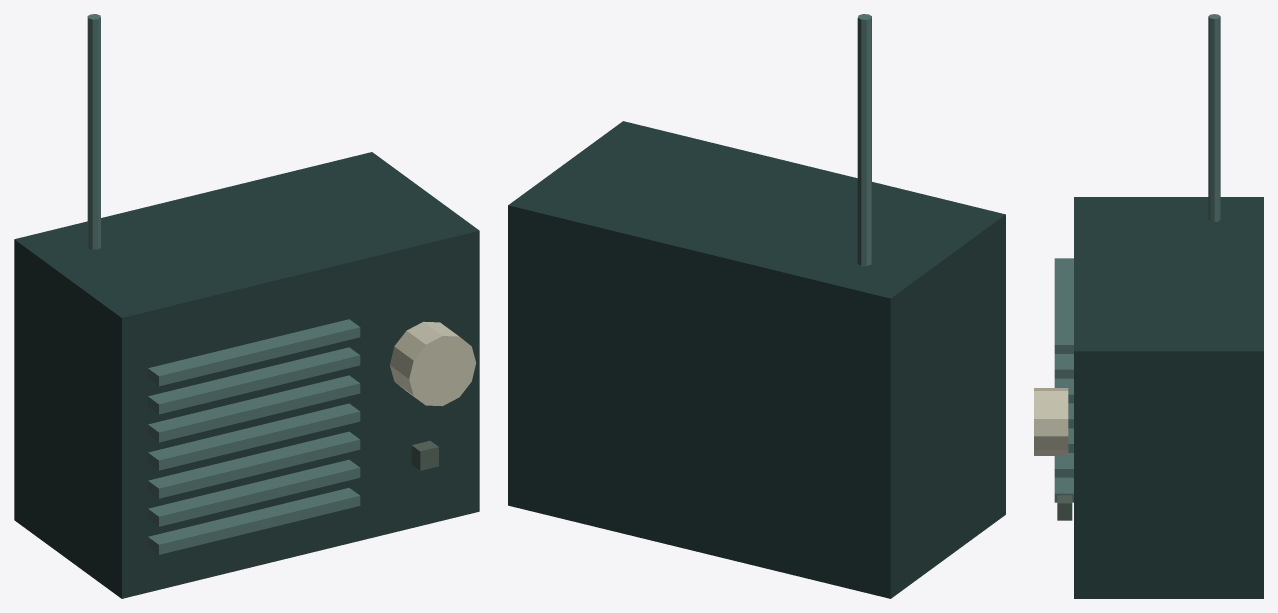
File: radio_speaker.glb
3 renders of one model, left to right at view 1: azimuth 30°, elevation 25°; view 2: azimuth 150°, elevation 25°; view 3: azimuth 270°, elevation 25°, orthographic. The views are drawn at different scales.
Parts seen in each view (by area): view 1: radio_case, radio_tuning_knob, speaker_grille_3, speaker_grille_0, speaker_grille_2, speaker_grille_4, speaker_grille_5, speaker_grille_6, speaker_grille_1, radio_antenna, radio_signal_led; view 2: radio_case, radio_antenna; view 3: radio_case, radio_antenna, radio_tuning_knob, speaker_grille_6, speaker_grille_5, speaker_grille_1, speaker_grille_0, radio_signal_led.
Boxes of the visible parts, bbox=[...] form: radio_case: bbox=[14, 152, 479, 598]; radio_tuning_knob: bbox=[390, 321, 476, 406]; speaker_grille_3: bbox=[148, 403, 360, 470]; speaker_grille_0: bbox=[148, 488, 360, 554]; speaker_grille_2: bbox=[148, 431, 360, 498]; speaker_grille_4: bbox=[148, 375, 360, 442]; speaker_grille_5: bbox=[148, 347, 360, 414]; speaker_grille_6: bbox=[148, 319, 360, 386]; speaker_grille_1: bbox=[148, 459, 360, 526]; radio_antenna: bbox=[87, 14, 100, 249]; radio_signal_led: bbox=[411, 440, 438, 470]; radio_case: bbox=[508, 121, 1005, 598]; radio_antenna: bbox=[857, 14, 871, 265]; radio_case: bbox=[1074, 197, 1263, 598]; radio_antenna: bbox=[1208, 14, 1220, 221]; radio_tuning_knob: bbox=[1034, 388, 1068, 455]; speaker_grille_6: bbox=[1054, 258, 1073, 353]; speaker_grille_5: bbox=[1054, 354, 1073, 378]; speaker_grille_1: bbox=[1054, 453, 1073, 477]; speaker_grille_0: bbox=[1054, 477, 1073, 502]; radio_signal_led: bbox=[1057, 495, 1072, 520].
Size of the model in its own units: 0.48 by 0.655 by 0.3025.
